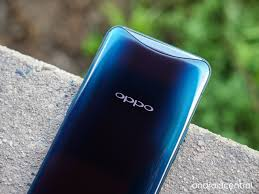oppo: (18, 23, 215, 194)
